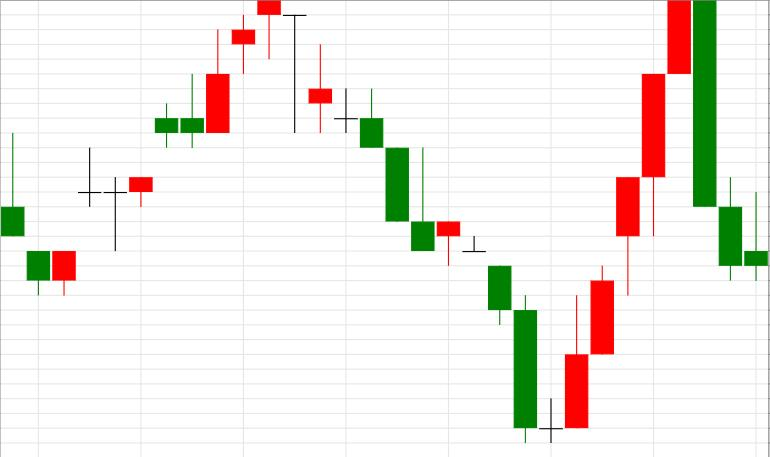bearish_engulfing_fall: (564, 0, 717, 429)
morning_star_rise: (360, 88, 588, 444)
three_white_soldiers_rise: (360, 88, 640, 444)
